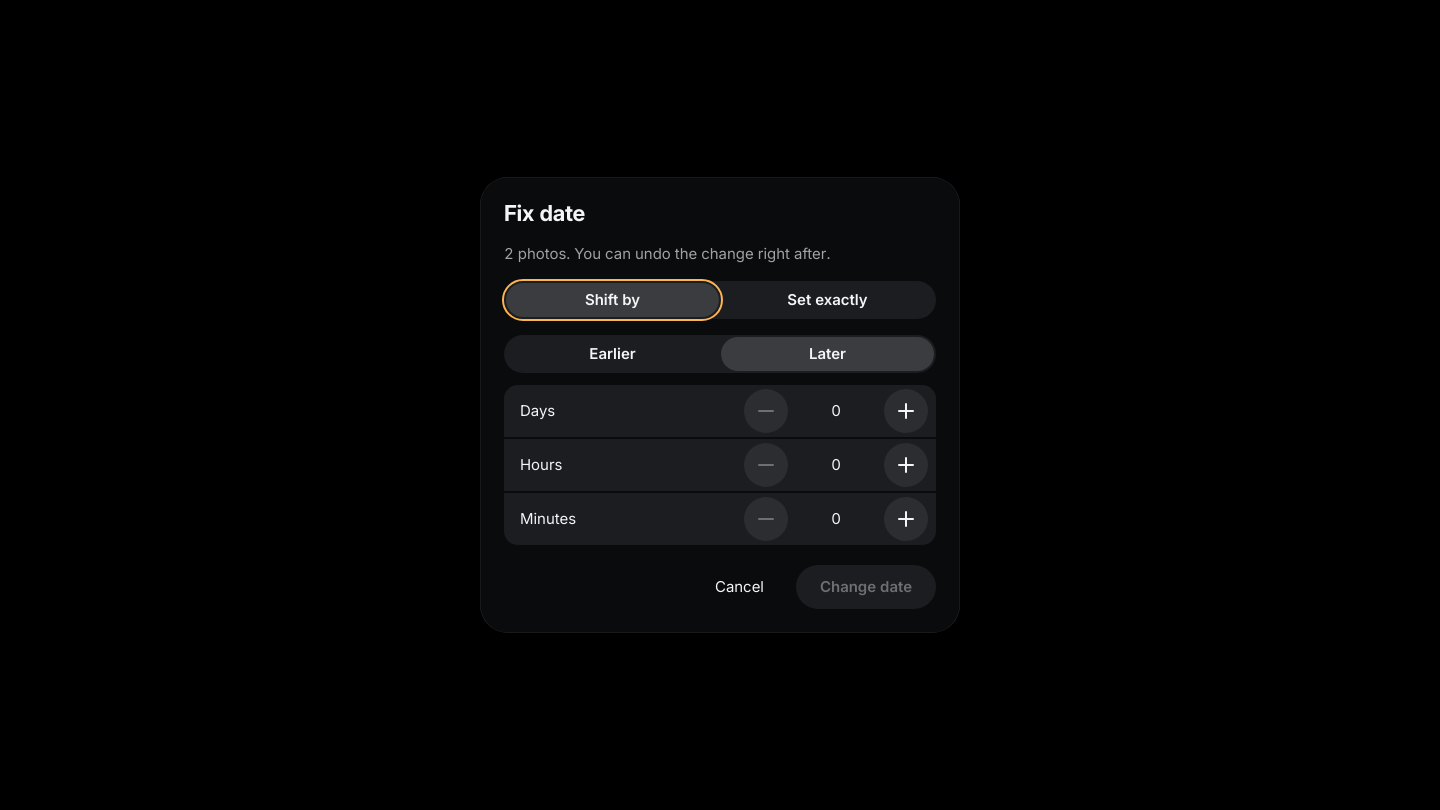
Test: FixDateDialog › Earlier and Later are one choice, later first
Expected: the radio button labelled "Later" is checked, [721, 336, 934, 370]
Click the radio button labelled "Earlier". click: click(612, 353)
box: [589, 344, 636, 363]
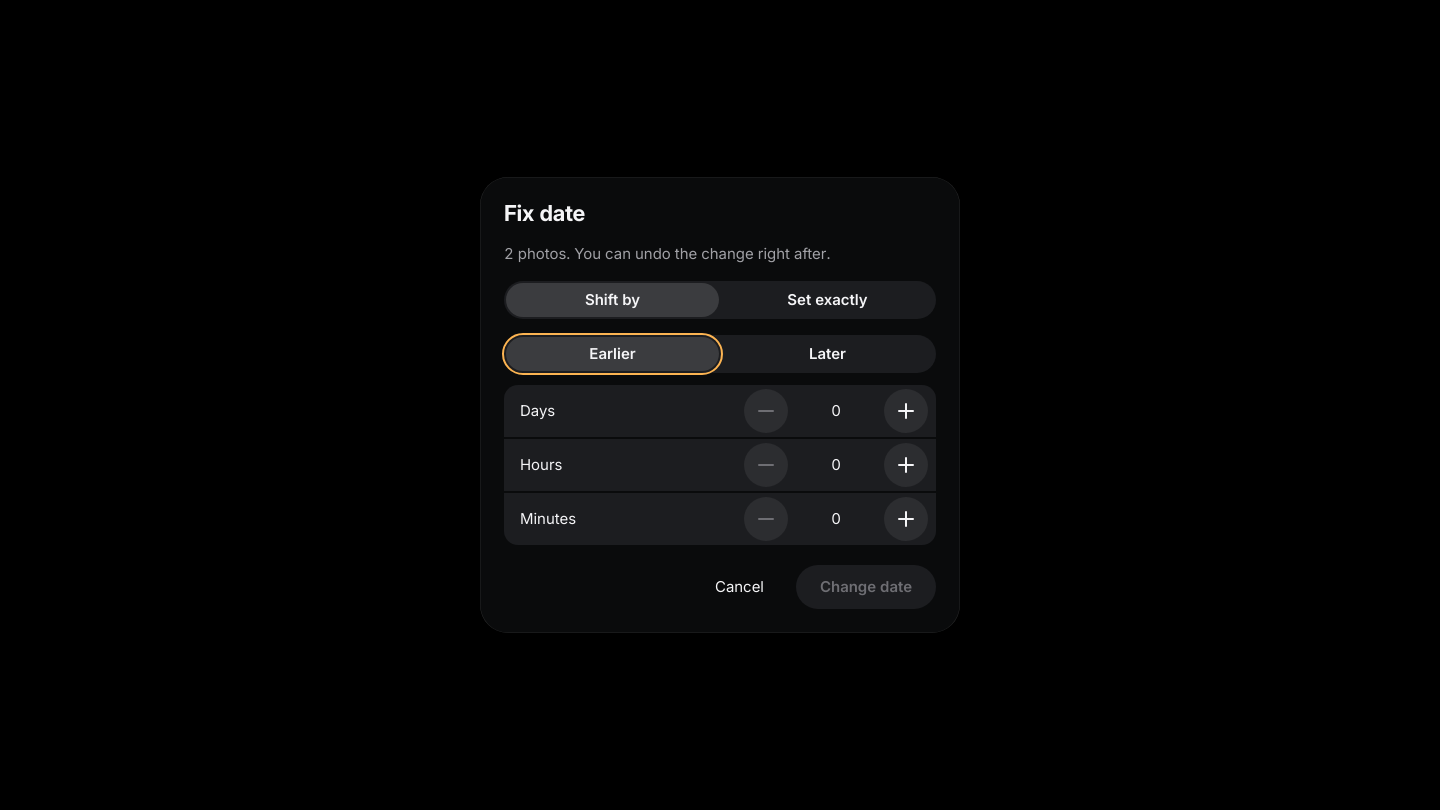
Result: the radio button labelled "Later" is not checked at [809, 344, 846, 363]
